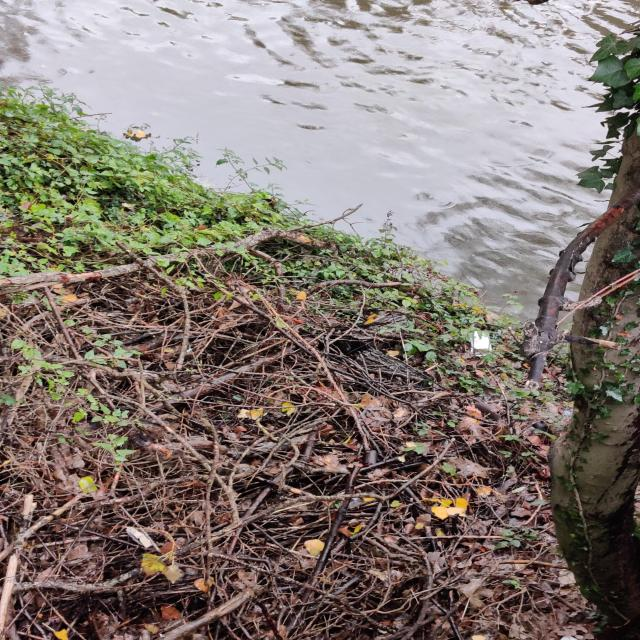litter: (467, 328, 492, 357)
